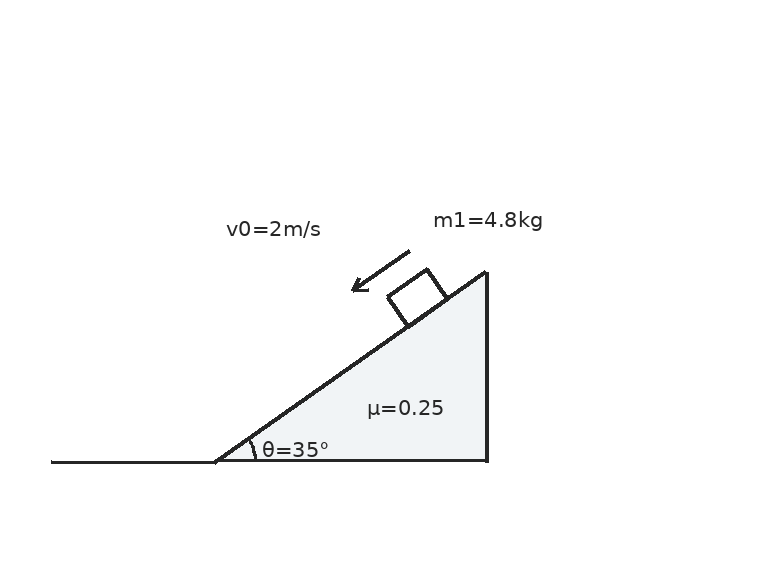block: (385, 267, 449, 328)
ramp: (213, 269, 488, 463)
